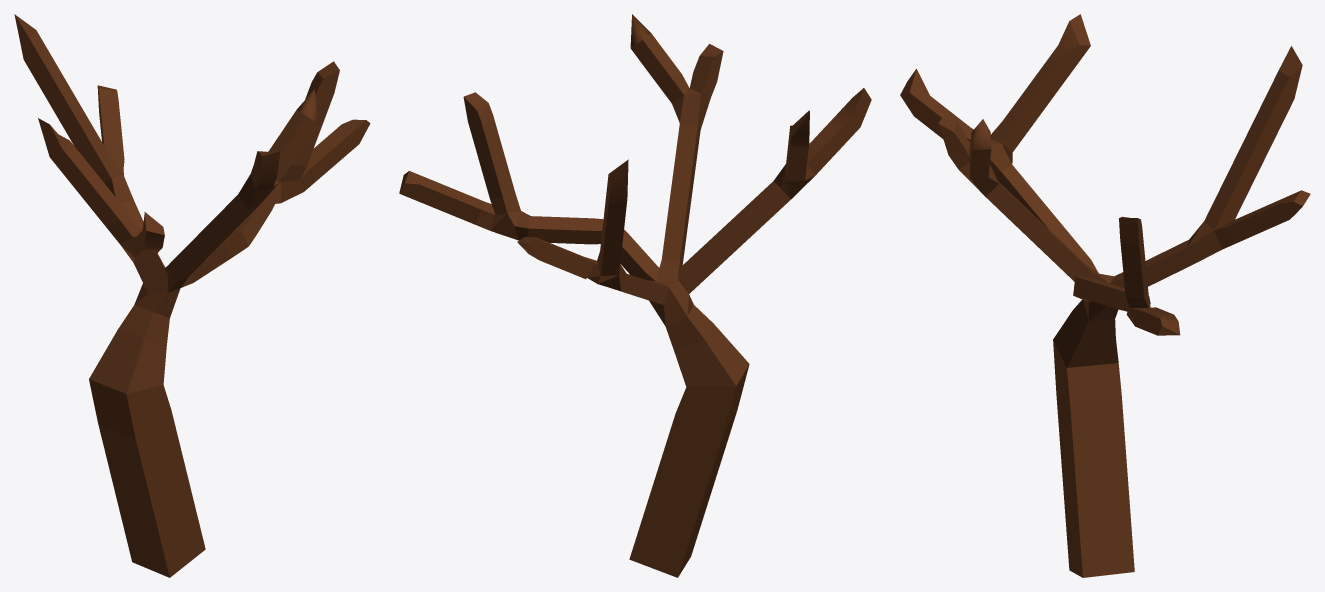
Rendered from TreeD1.fbx.
The picture shows the model from 3 angles, left to right: view 1: azimuth 30°, elevation 25°; view 2: azimuth 150°, elevation 25°; view 3: azimuth 270°, elevation 25°; orthographic projection. The views are drawn at different scales.
Parts seen in each view (by area): view 1: Cube; view 2: Cube; view 3: Cube.
Part boxes in pixels (x1,y1,x2,y2): Cube: (14,14,370,577); Cube: (399,14,871,577); Cube: (900,14,1310,577).
Bounding box in the file's own units: 216 × 274 × 203.
